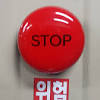bell: (17, 6, 88, 75)
